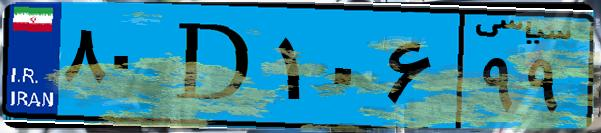0: (330, 28, 385, 110), (110, 28, 158, 98)
1: (270, 28, 330, 110)
6: (385, 28, 445, 110)
8: (57, 26, 110, 100)
9: (475, 38, 525, 113), (525, 38, 570, 115)
D: (158, 12, 270, 120)
